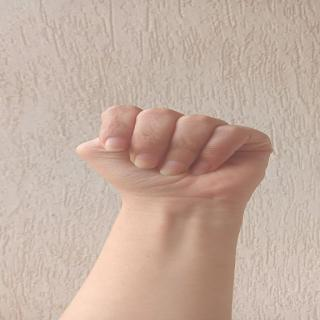SAD: (70, 99, 280, 230)
